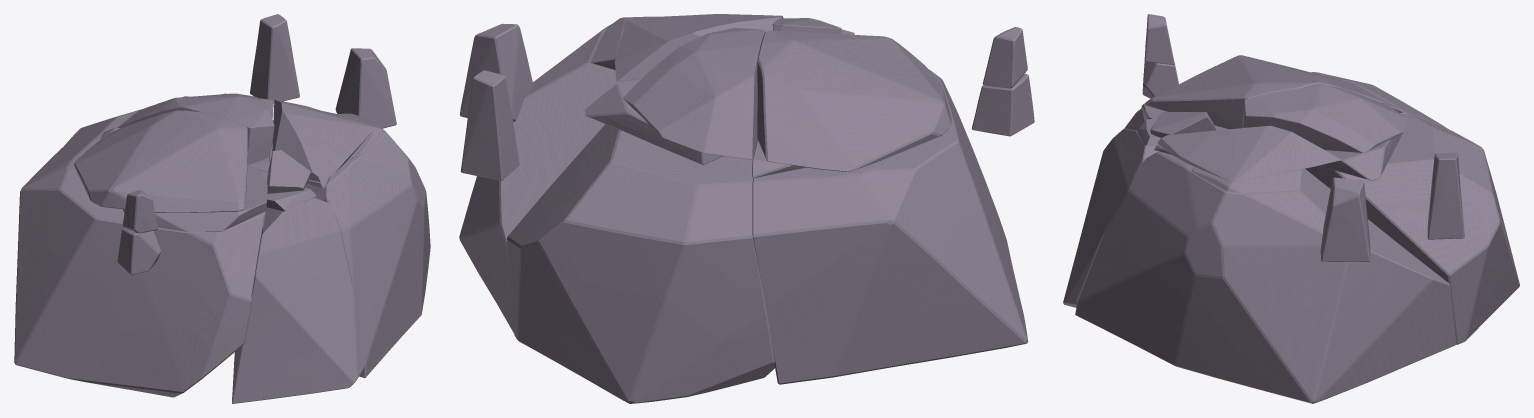
Rendered from MG01_Hand_Rock_S03.fbx.
3 views of the same model, side by side, from view 1: azimuth 30°, elevation 25°; view 2: azimuth 150°, elevation 25°; view 3: azimuth 270°, elevation 25° (orthographic). The views are drawn at different scales.
Parts seen in each view (by area): view 1: MG01HR_S03_0, MG01HR_S03_2, MG01HR_S03_3, MG01HR_S03_11, MG01HR_S03_14, MG01HR_S03_12, MG01HR_S03_crag0_0, MG01HR_S03_crag1_0, MG01HR_S03_4, MG01HR_S03_crag2_0, MG01HR_S03_13, MG01HR_S03_crag2_1 (+3 smaller); view 2: MG01HR_S03_1, MG01HR_S03_0, MG01HR_S03_11, MG01HR_S03_3, MG01HR_S03_12, MG01HR_S03_14, MG01HR_S03_crag1_0, MG01HR_S03_crag0_0, MG01HR_S03_9, MG01HR_S03_crag2_0, MG01HR_S03_crag2_1, MG01HR_S03_10 (+2 smaller); view 3: MG01HR_S03_3, MG01HR_S03_1, MG01HR_S03_12, MG01HR_S03_11, MG01HR_S03_14, MG01HR_S03_2, MG01HR_S03_crag0_0, MG01HR_S03_crag1_0, MG01HR_S03_9, MG01HR_S03_10, MG01HR_S03_13, MG01HR_S03_crag2_1 (+2 smaller).
Boxes of the visible parts, box(x1,y1,x2,y2) form: MG01HR_S03_0: box(14, 134, 267, 397); MG01HR_S03_2: box(232, 197, 364, 403); MG01HR_S03_3: box(305, 113, 430, 378); MG01HR_S03_11: box(74, 110, 247, 212); MG01HR_S03_14: box(272, 100, 373, 181); MG01HR_S03_12: box(117, 93, 274, 164); MG01HR_S03_crag0_0: box(335, 48, 396, 128); MG01HR_S03_crag1_0: box(250, 14, 299, 103); MG01HR_S03_4: box(123, 166, 267, 231); MG01HR_S03_crag2_0: box(117, 228, 160, 274); MG01HR_S03_13: box(267, 150, 310, 193); MG01HR_S03_crag2_1: box(122, 190, 158, 233); MG01HR_S03_1: box(506, 124, 774, 403); MG01HR_S03_0: box(752, 69, 1028, 384); MG01HR_S03_11: box(757, 30, 951, 171); MG01HR_S03_3: box(459, 24, 641, 332); MG01HR_S03_12: box(623, 28, 765, 159); MG01HR_S03_14: box(615, 14, 783, 81); MG01HR_S03_crag1_0: box(460, 70, 519, 180); MG01HR_S03_crag0_0: box(459, 23, 533, 121); MG01HR_S03_9: box(584, 80, 723, 164); MG01HR_S03_crag2_0: box(971, 74, 1034, 136); MG01HR_S03_crag2_1: box(982, 27, 1027, 88); MG01HR_S03_10: box(590, 16, 656, 70); MG01HR_S03_3: box(1075, 151, 1456, 403); MG01HR_S03_1: box(1305, 113, 1519, 344); MG01HR_S03_12: box(1242, 84, 1407, 152); MG01HR_S03_11: box(1145, 55, 1384, 129); MG01HR_S03_14: box(1157, 125, 1340, 181); MG01HR_S03_2: box(1063, 128, 1158, 307); MG01HR_S03_crag0_0: box(1320, 177, 1370, 261); MG01HR_S03_crag1_0: box(1427, 152, 1464, 239); MG01HR_S03_9: box(1319, 133, 1402, 180); MG01HR_S03_10: box(1192, 166, 1302, 193); MG01HR_S03_13: box(1150, 112, 1216, 137); MG01HR_S03_crag2_1: box(1144, 14, 1174, 64).
Size of the model in its own units: 937 by 421 by 836.
